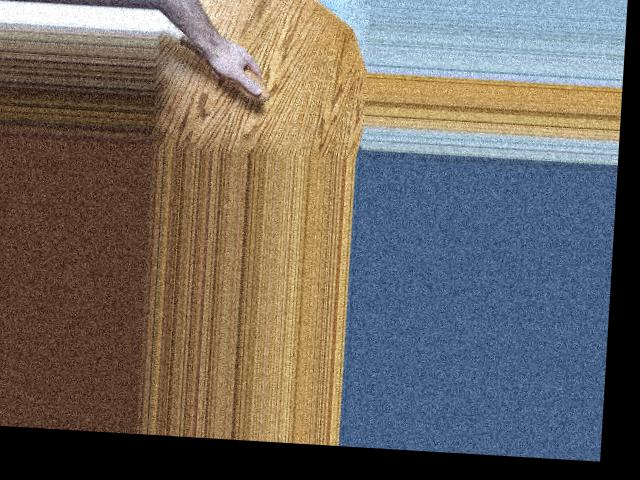sweet_potato: (173, 32, 274, 101)
